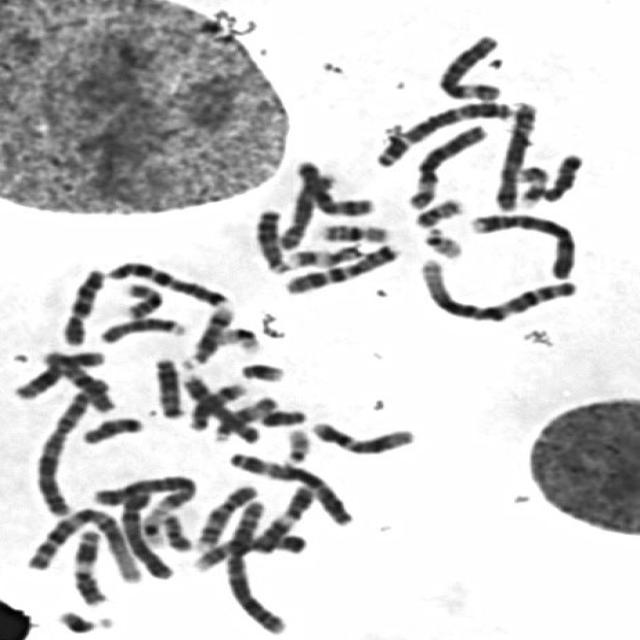A1: (413, 252, 579, 324), (22, 504, 144, 584)
A2: (32, 373, 117, 517), (220, 494, 290, 636)
A3: (221, 446, 357, 528), (370, 96, 516, 169)
B4: (463, 208, 581, 282), (115, 484, 177, 582)
B5: (490, 95, 540, 212), (87, 470, 199, 513)
C10: (38, 346, 118, 414), (57, 262, 109, 346)
C11: (246, 481, 318, 554), (66, 525, 110, 607)
C12: (9, 345, 108, 401), (304, 416, 419, 456)
C6: (402, 118, 491, 212), (433, 29, 506, 102)
C7: (277, 238, 403, 296), (104, 257, 231, 308)
C8: (176, 370, 261, 445), (274, 166, 340, 250)
C9: (188, 526, 307, 573), (190, 478, 262, 552)
D13: (250, 203, 293, 274), (148, 352, 187, 420)
D14: (177, 301, 238, 370), (182, 377, 249, 433)
D15: (207, 392, 281, 442), (94, 311, 189, 345)
E16: (116, 277, 166, 320), (314, 218, 392, 244)
E17: (282, 240, 366, 269), (510, 160, 550, 209)
E18: (538, 147, 586, 203), (76, 411, 147, 445)
F19: (212, 322, 264, 354), (136, 503, 168, 548)
F20: (409, 193, 467, 229), (156, 508, 194, 552)
G21: (51, 605, 116, 636), (234, 356, 288, 384)
G22: (419, 222, 467, 260), (278, 423, 314, 466)
X: (289, 154, 377, 218)
Y: (254, 404, 310, 428)
